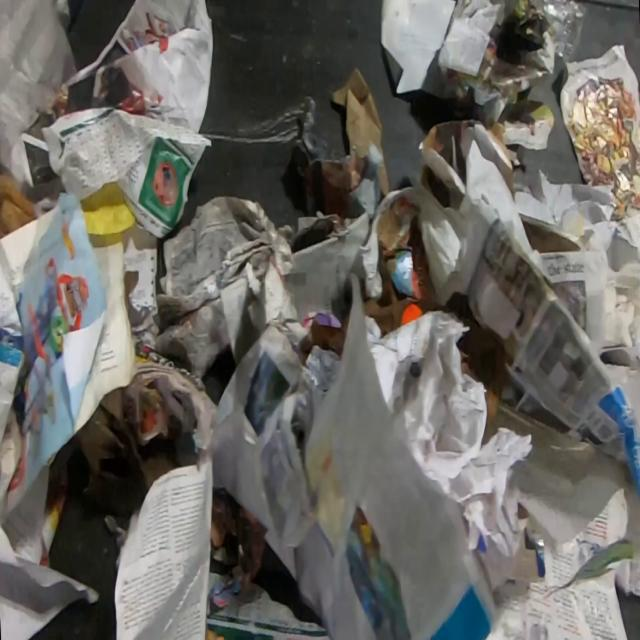cardboard: (75, 384, 180, 501), (331, 65, 390, 198), (0, 166, 42, 241)
soft_plastic: (538, 0, 586, 71)
